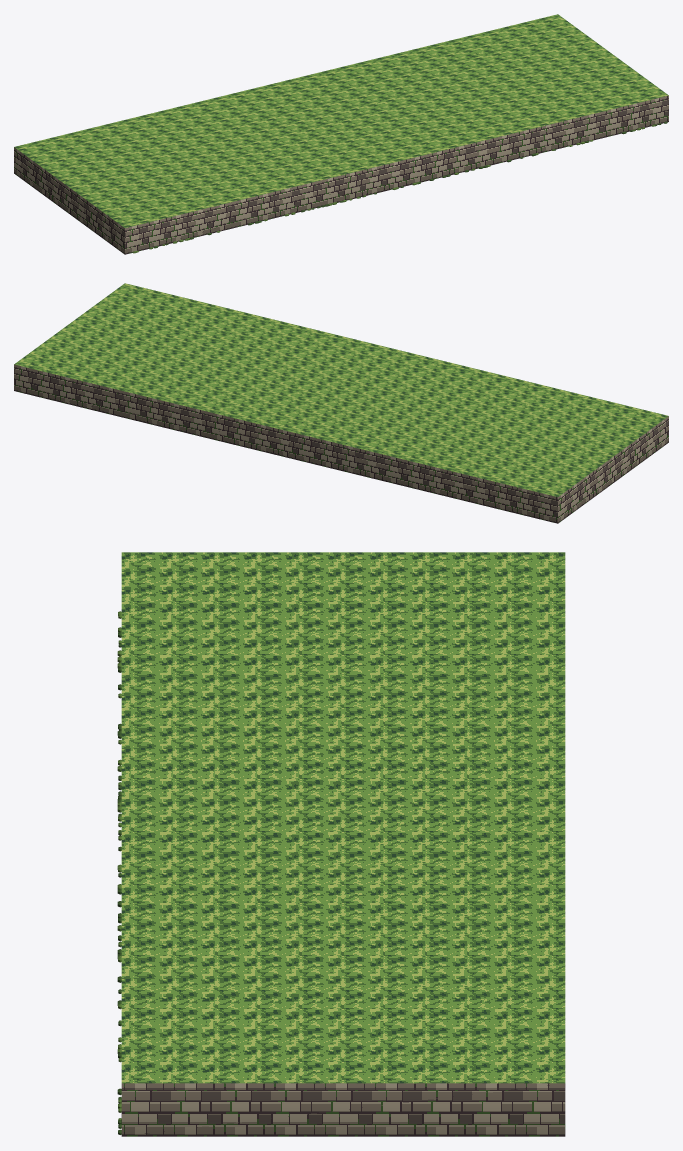
The model's file is scene_root_wall.glb.
The picture shows the model from 3 angles, top to bottom: view 1: azimuth 30°, elevation 25°; view 2: azimuth 150°, elevation 25°; view 3: azimuth 270°, elevation 25°; orthographic projection. The views are drawn at different scales.
Visible parts, largest first — view 1: scene_root_wall; view 2: scene_root_wall; view 3: scene_root_wall.
Boxes of the visible parts, x1=… form: scene_root_wall: x1=14, y1=14, x2=668, y2=254; scene_root_wall: x1=14, y1=283, x2=668, y2=523; scene_root_wall: x1=117, y1=552, x2=565, y2=1136.
Size of the model in its own units: 60 by 2.89 by 21.39.
3 materials, 2 textured.
